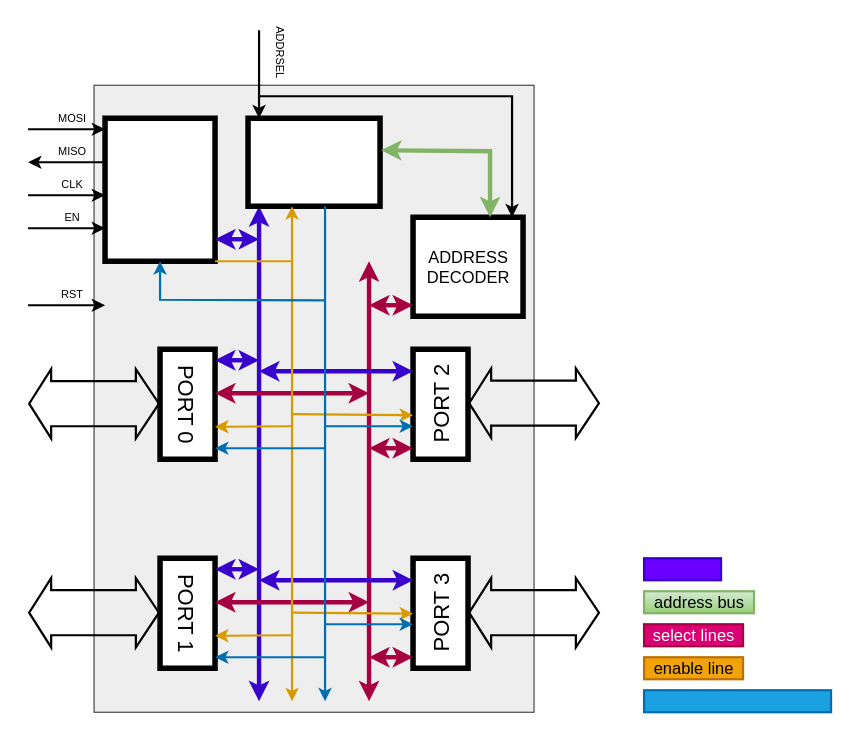
Image size: 850x732. Some labels were removed from this diagram. Here are the shapes that lost their labels. From the top down, the centre of each, then its label:
At point 313,161: "ADDRESS GENERATOR".
At point 159,189: "SPI MODULE".
At point 682,569: "data bus".
At point 737,701: "internal Read/Write line".
